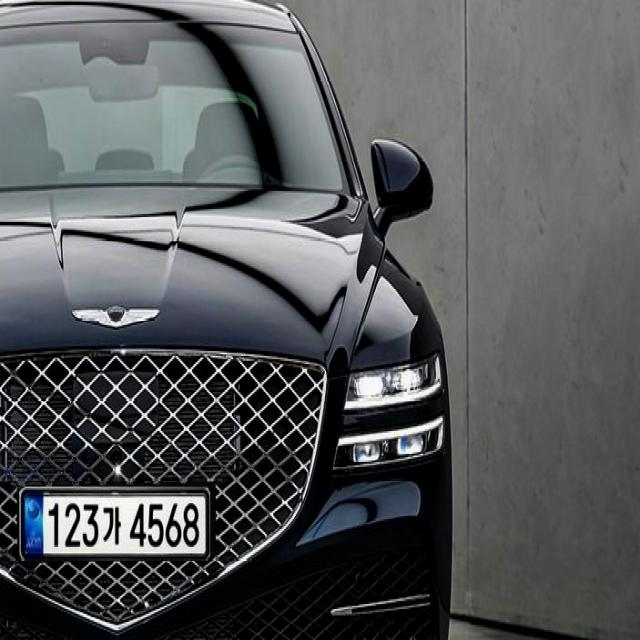car: (0, 0, 473, 640)
illegal_plate: (20, 483, 212, 569)
